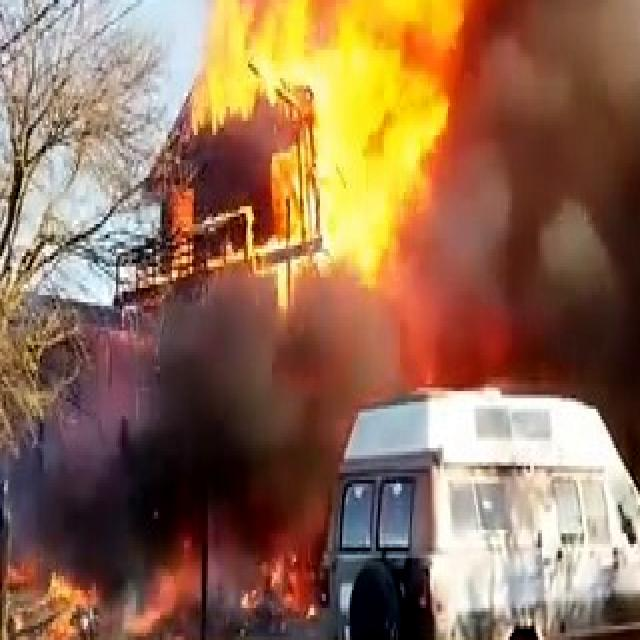smoke: (168, 0, 450, 284)
